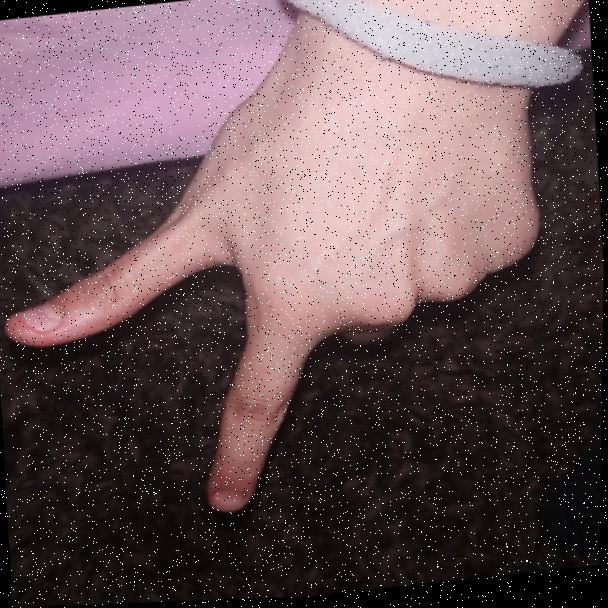five: (5, 98, 551, 524)
